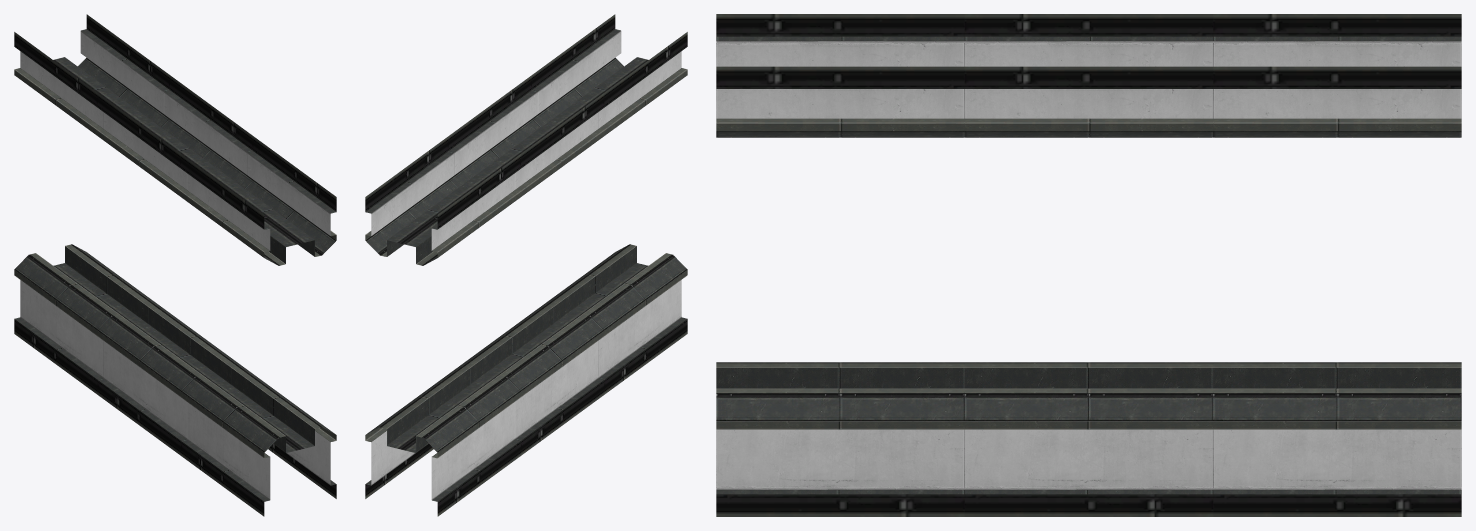
File: Neon_WindowFrameMidB_3.FBX
The picture shows the model from 3 angles, left to right: view 1: azimuth 30°, elevation 25°; view 2: azimuth 150°, elevation 25°; view 3: azimuth 270°, elevation 25°; orthographic projection. The views are drawn at different scales.
Parts seen in each view (by area): view 1: Neon_WindowFrameMidB_3; view 2: Neon_WindowFrameMidB_3; view 3: Neon_WindowFrameMidB_3.
Part boxes in pixels (left/top/right/bottom): Neon_WindowFrameMidB_3: left=14, top=14, right=336, bottom=516; Neon_WindowFrameMidB_3: left=365, top=14, right=687, bottom=516; Neon_WindowFrameMidB_3: left=716, top=14, right=1461, bottom=516.
Size of the model in its own units: 1 by 4 by 6.
